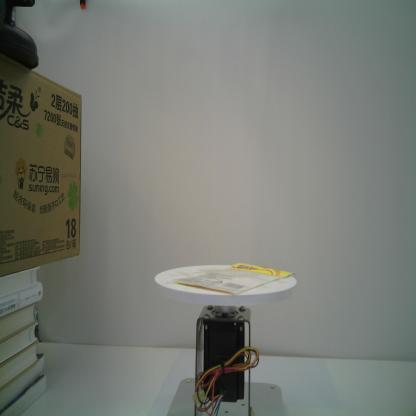Stationery: (164, 261, 298, 297)
